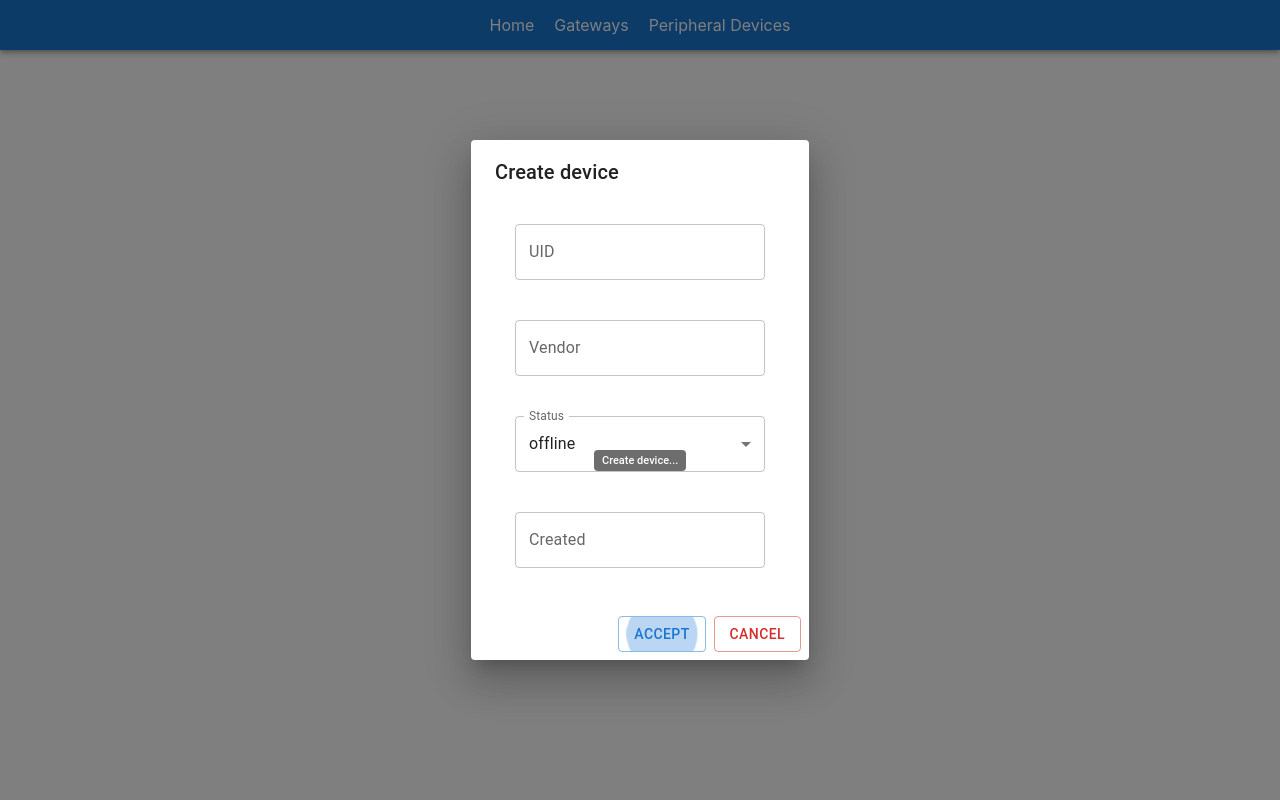
Scenario: peripheral devices tests › create peripheral device › validates uid
This screenshot has width=1280, height=800.
Type "aa" into the field labelled "UID" at (640, 252), box [515,224,765,280]
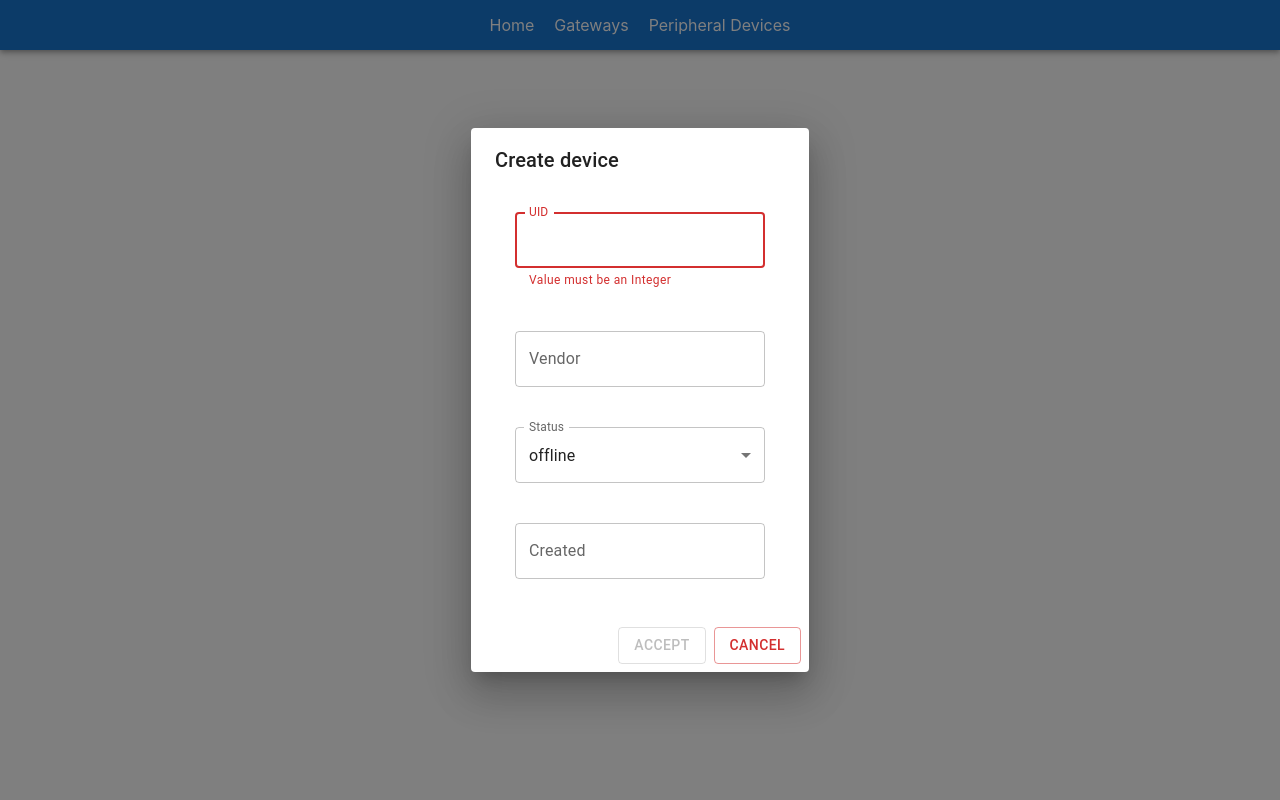
Now the text "Value must be an Integer" is shown, box [529,273,671,287]
Now the button "Accept" is disabled, box [618,627,705,664]
Type "123" into the field labelled "UID" at (640, 240), box [515,212,765,268]
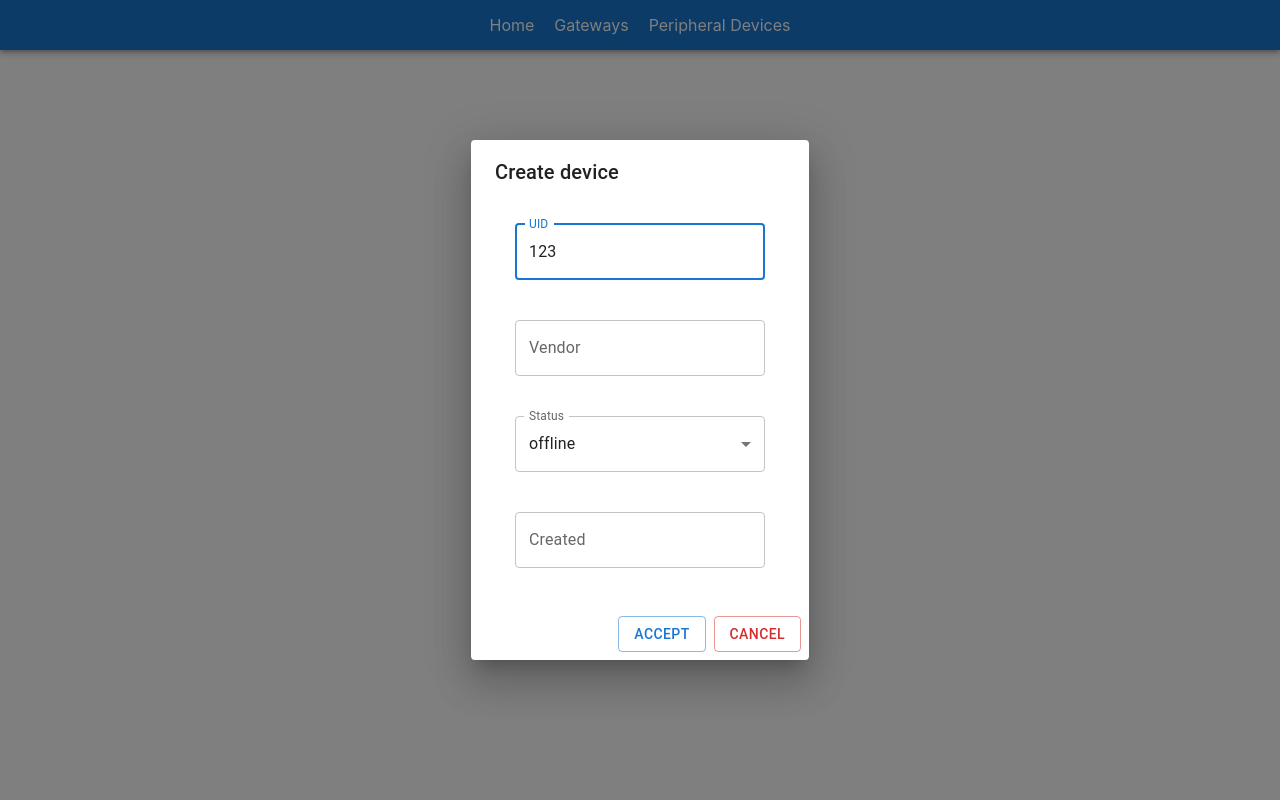
Expected: the text "Accept" is enabled
Now the text "Value must be an Integer" is gone
